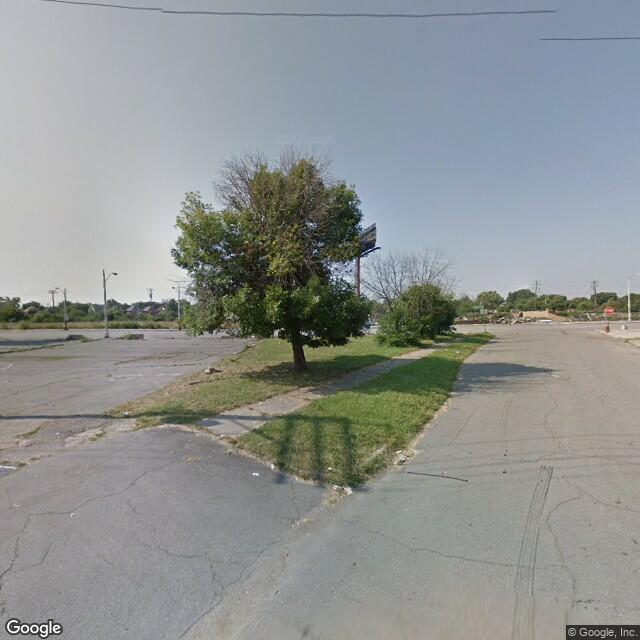litter: (334, 481, 357, 498), (318, 463, 341, 474), (252, 397, 270, 409), (387, 446, 406, 456), (449, 346, 466, 357), (121, 407, 136, 419), (246, 468, 264, 478), (264, 460, 280, 470)
